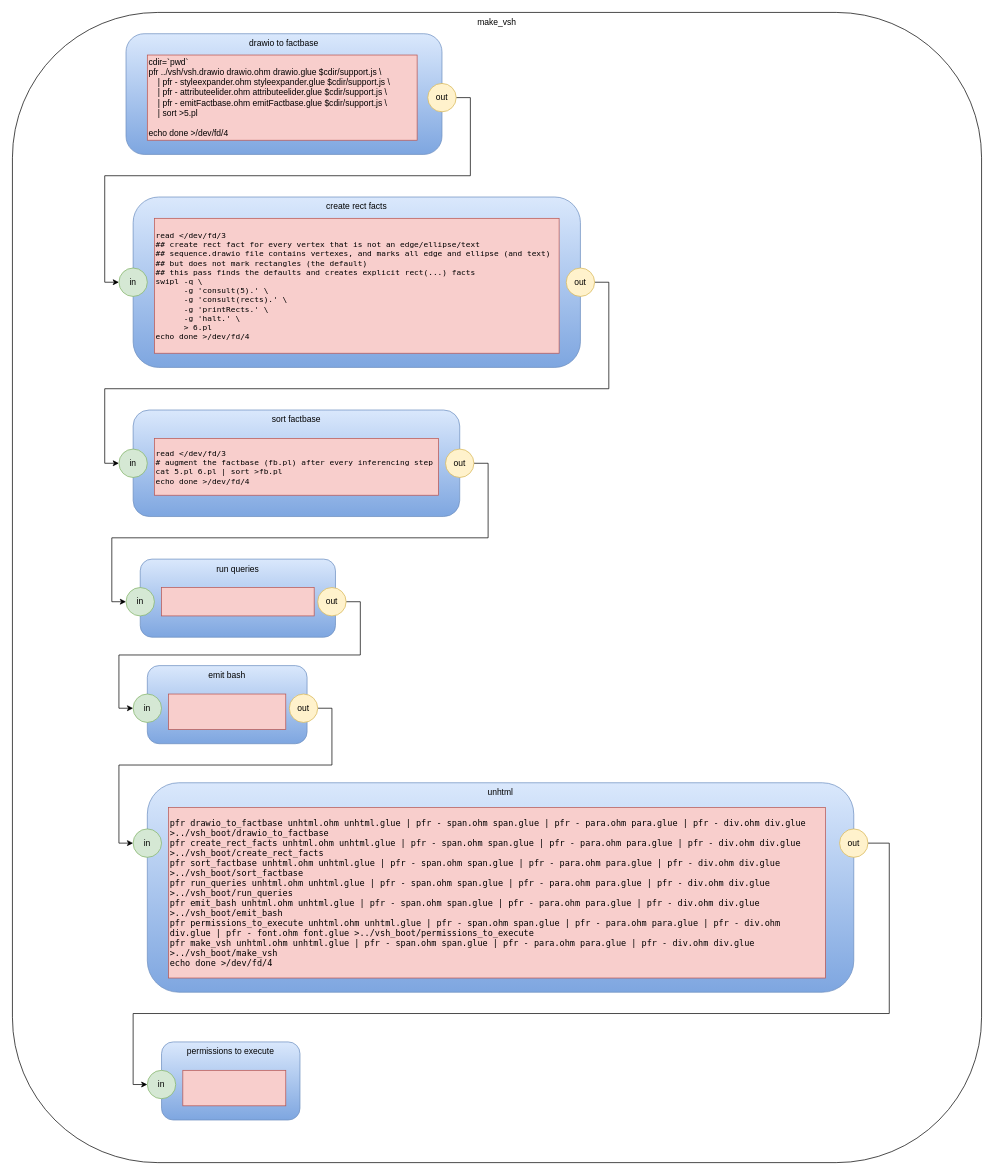
Image size: 994x1175. Some labels were removed from this diagram. The shapes that lost their labels are listed below. From the top down, each one's centre as x and y in pixels, then its label:
At point (237, 601): "read </dev/fd/3 ./run_queries.bash >7.json echo done >/dev/fd/4".
At point (227, 711): "read </dev/fd/3 node emitBash.js 7.json echo done >/dev/fd/4".
At point (234, 1088): "read </dev/fd/3 chmod a+x make_vsh # no output".
